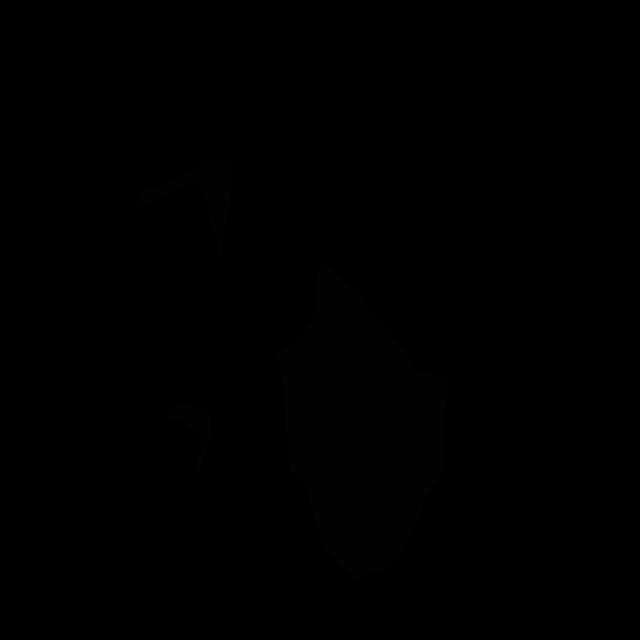cardboard: (276, 263, 450, 579), (134, 157, 235, 260), (156, 401, 212, 481)
